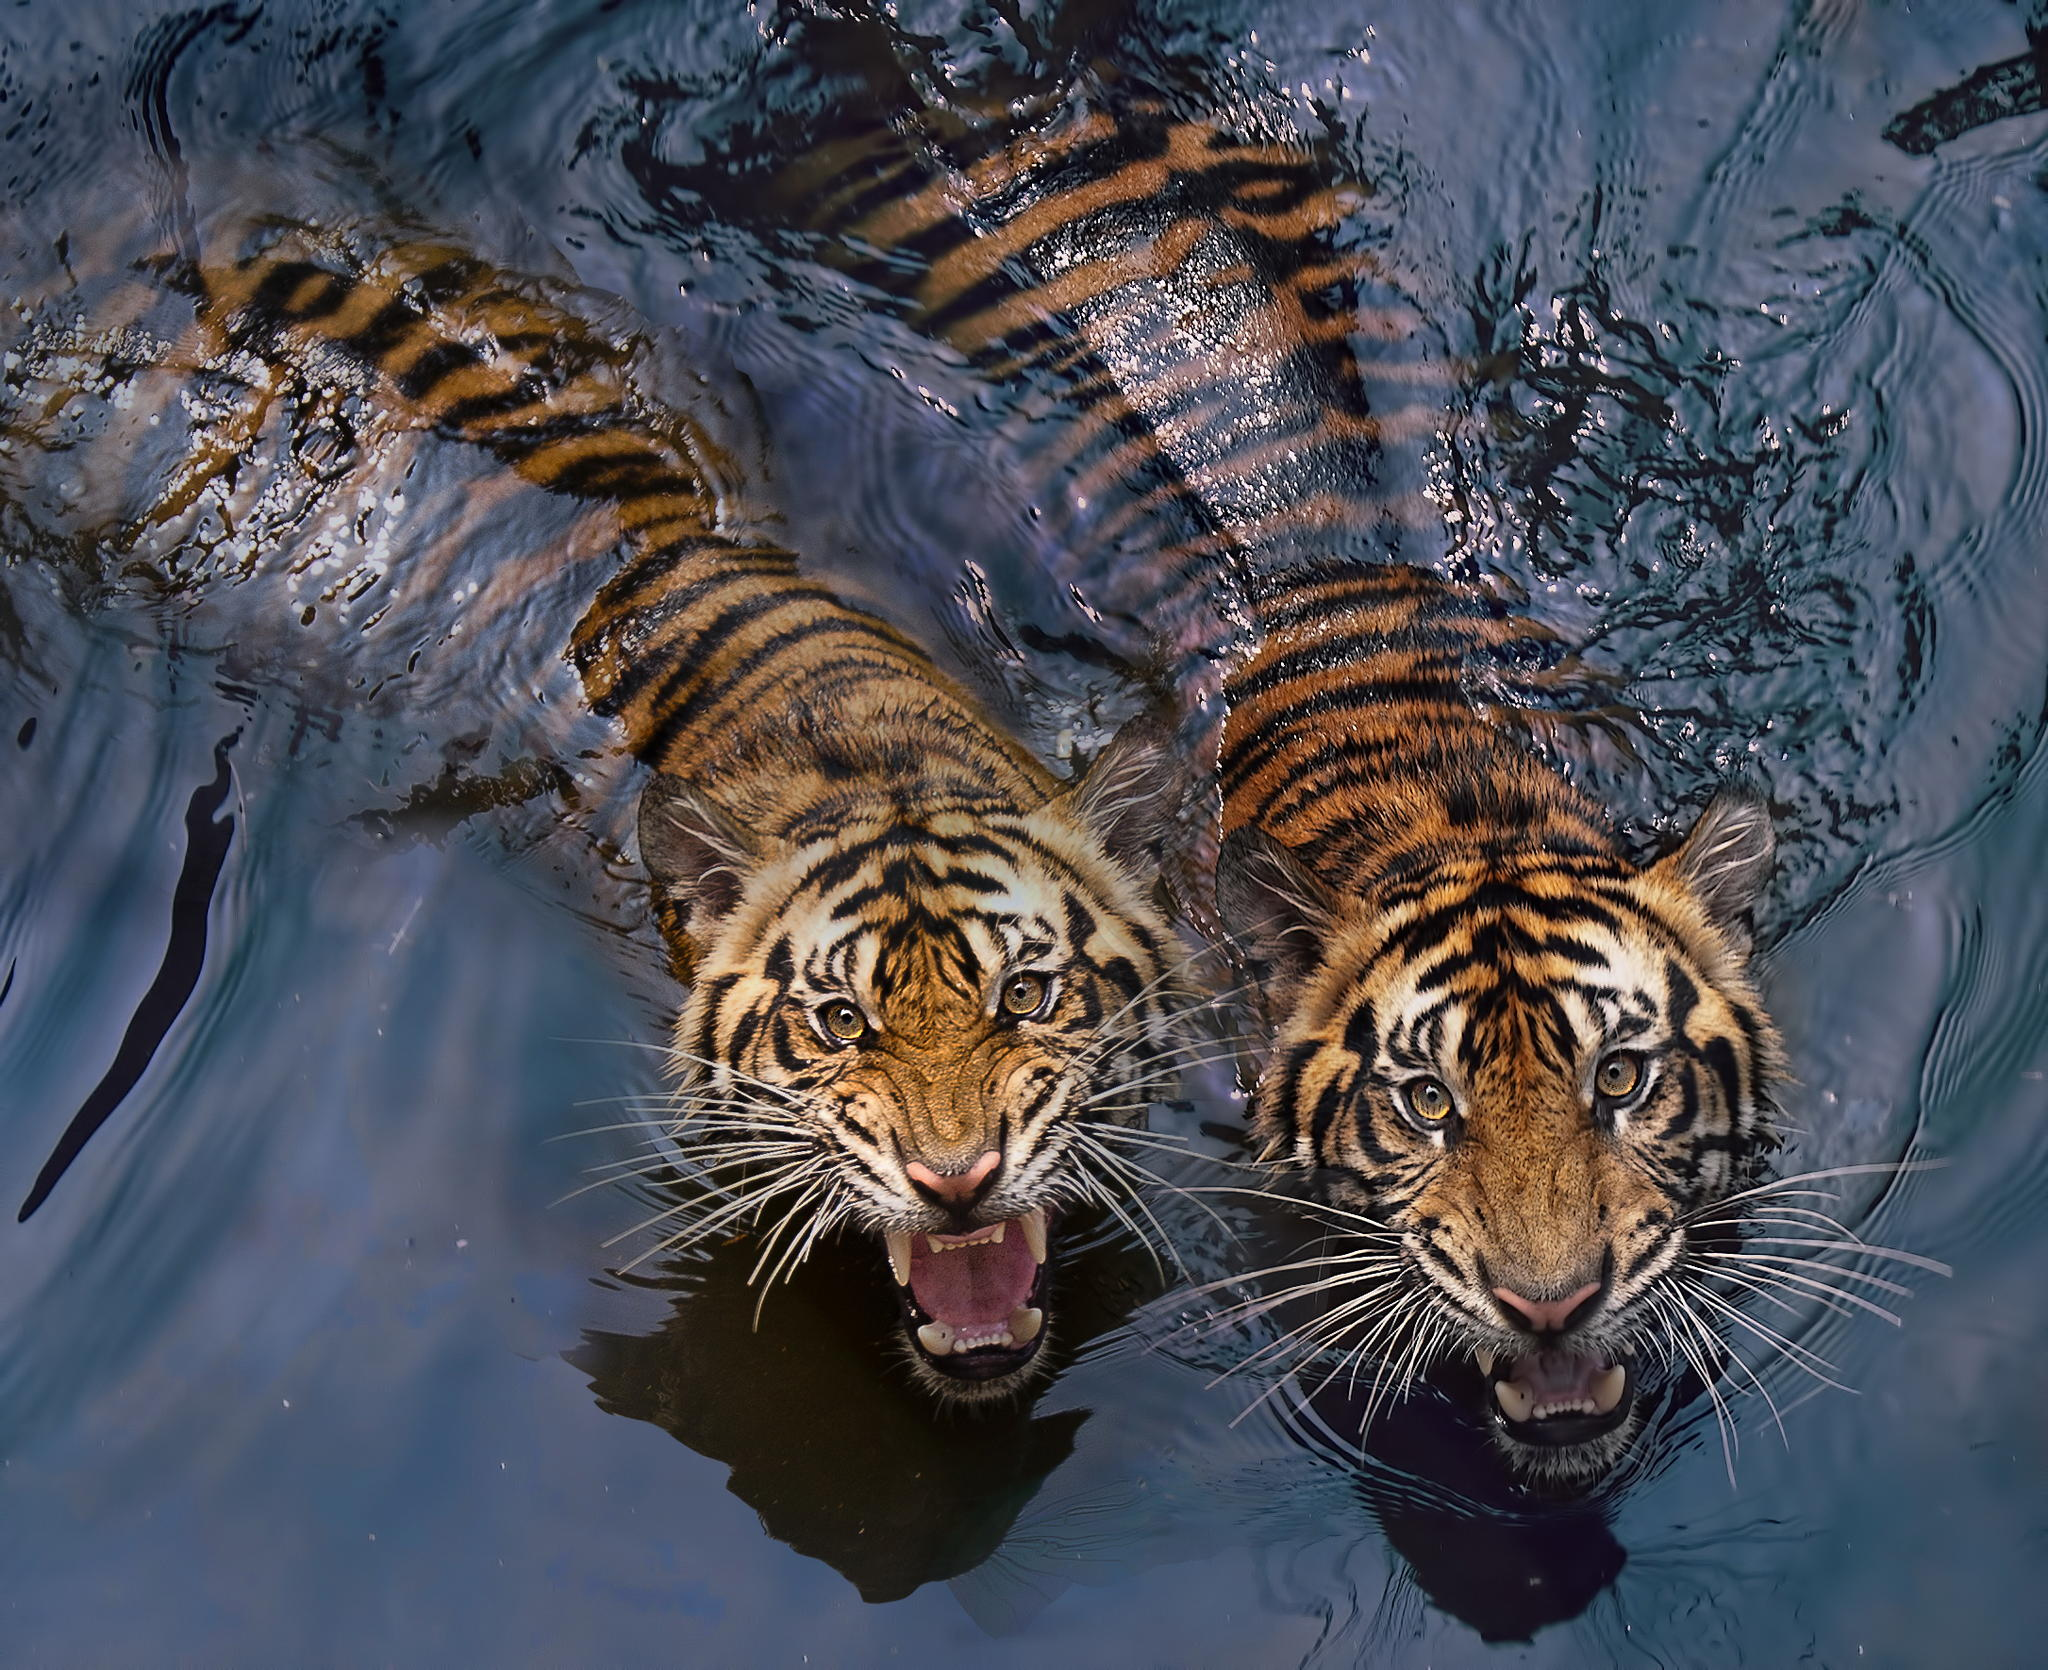tiger: (917, 60, 1885, 1456), (202, 209, 1174, 1400)
